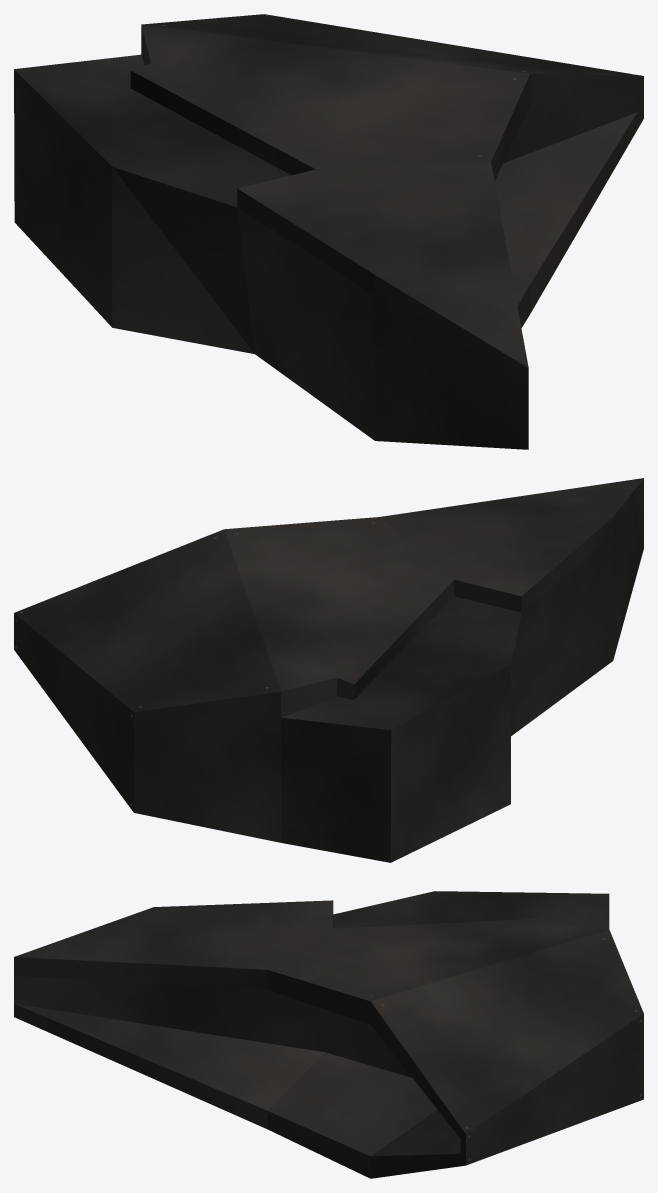
The model's file is e_port_quarter_d_model.fbx.
3 renders of one model, top to bottom at view 1: azimuth 30°, elevation 25°; view 2: azimuth 150°, elevation 25°; view 3: azimuth 270°, elevation 25°, orthographic. The views are drawn at different scales.
Parts seen in each view (by area): view 1: polySurface9; view 2: polySurface9; view 3: polySurface9.
Part boxes in pixels (box(x1,y1,x2,y2)): polySurface9: box(14, 14, 643, 449); polySurface9: box(14, 478, 643, 862); polySurface9: box(14, 891, 643, 1178).
Size of the model in its own units: 8100 by 3366 by 10833.
Materials: 2 (1 with a texture image).
